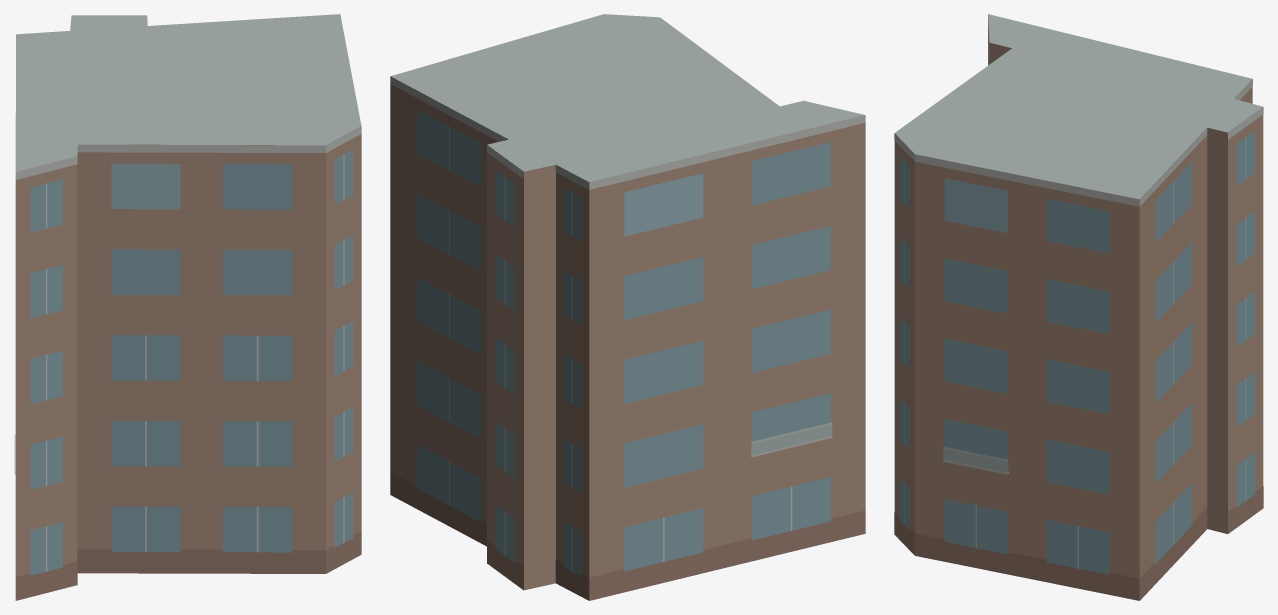
Rendered from survey-upis-32870109.glb.
3 renders of one model, left to right at view 1: azimuth 30°, elevation 25°; view 2: azimuth 150°, elevation 25°; view 3: azimuth 270°, elevation 25°, orthographic. The views are drawn at different scales.
Parts seen in each view (by area): view 1: survey-upis-32870109.tmp; view 2: survey-upis-32870109.tmp; view 3: survey-upis-32870109.tmp.
Boxes of the visible parts, x1,y1,x2,y2 form: survey-upis-32870109.tmp: [14, 14, 361, 600]; survey-upis-32870109.tmp: [390, 14, 865, 600]; survey-upis-32870109.tmp: [894, 14, 1263, 600].
Bounding box in the file's own units: 13.18 × 13.3 × 11.09.
